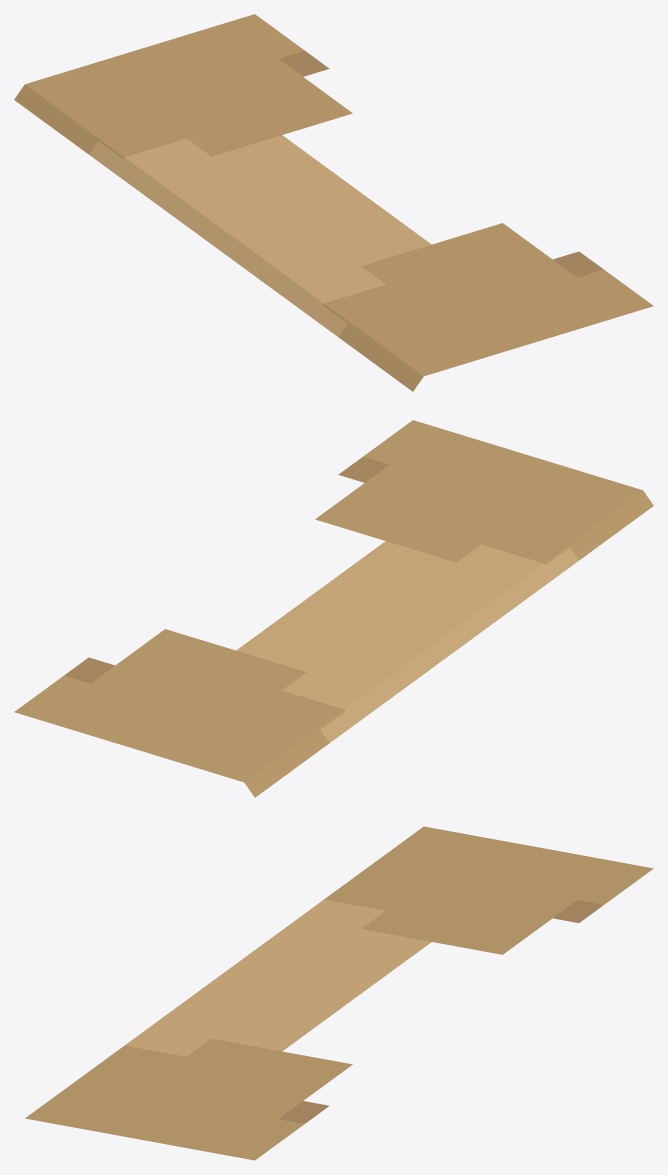
3 renders of one model, top to bottom at view 1: azimuth 30°, elevation 25°; view 2: azimuth 150°, elevation 25°; view 3: azimuth 330°, elevation 25°, orthographic.
Bounding box in the file's own units: 0.3486 × 0.0373 × 1.
1 material, 1 textured.
